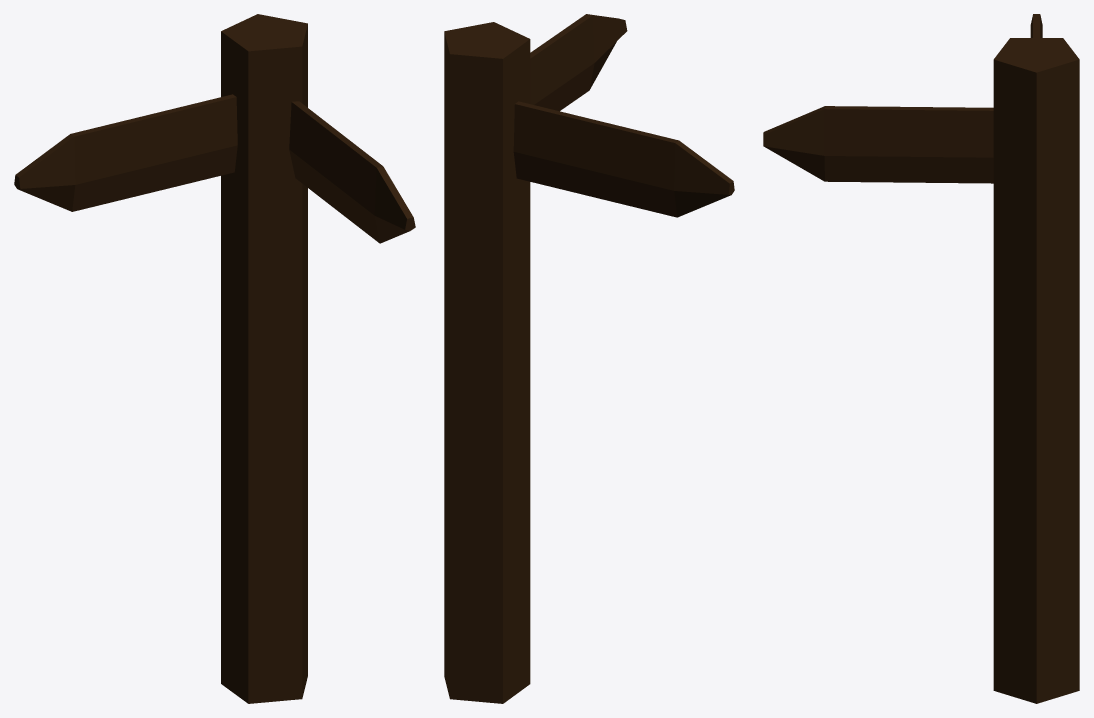
Rendered from Directions Sign Post.FBX.
The picture shows the model from 3 angles, left to right: view 1: azimuth 30°, elevation 25°; view 2: azimuth 150°, elevation 25°; view 3: azimuth 270°, elevation 25°; orthographic projection. The views are drawn at different scales.
Visible parts, largest first — view 1: Directions Sign Post; view 2: Directions Sign Post; view 3: Directions Sign Post.
Boxes of the visible parts, x1,y1,x2,y2 form: Directions Sign Post: (14,14,415,703); Directions Sign Post: (444,14,734,703); Directions Sign Post: (763,14,1079,703).
Size of the model in its own units: 30.07 by 64.49 by 29.3.
